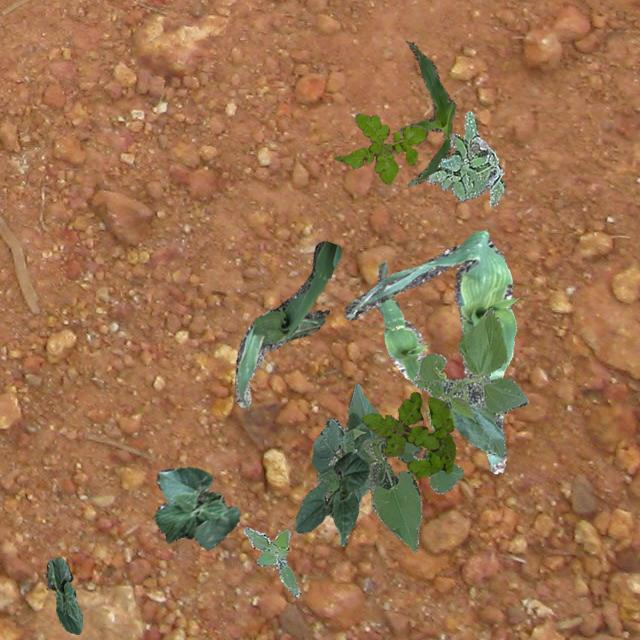crop: (344, 230, 516, 472), (310, 382, 462, 550), (234, 239, 340, 406), (410, 306, 528, 456), (398, 41, 454, 186), (294, 450, 368, 544), (154, 466, 238, 548), (374, 260, 426, 380), (46, 558, 82, 634)
weed: (362, 391, 454, 476), (426, 110, 504, 206), (334, 112, 426, 184), (242, 526, 300, 596)
